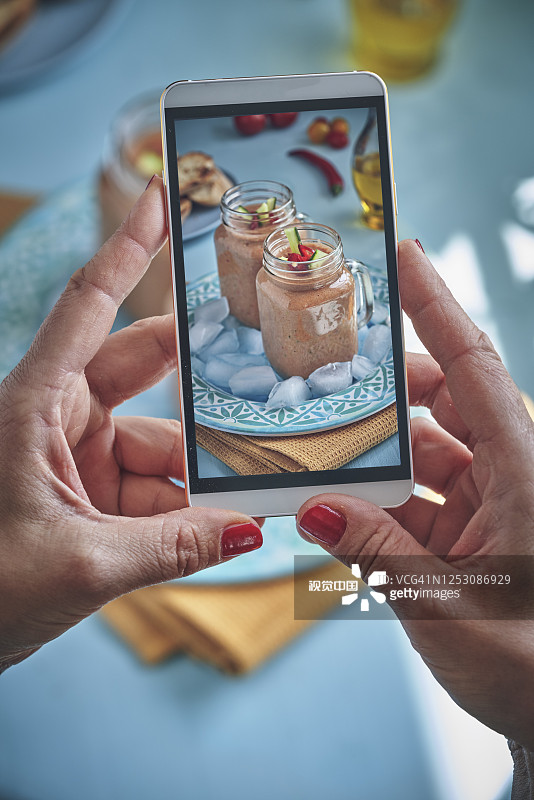taking photos: (288, 52, 534, 792), (2, 105, 280, 724)
